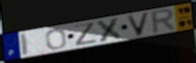I: (19, 32, 30, 57)
O: (44, 28, 68, 50)
R: (151, 7, 178, 35)
V: (125, 11, 151, 37)
X: (95, 16, 127, 43)
Z: (73, 21, 99, 47)
